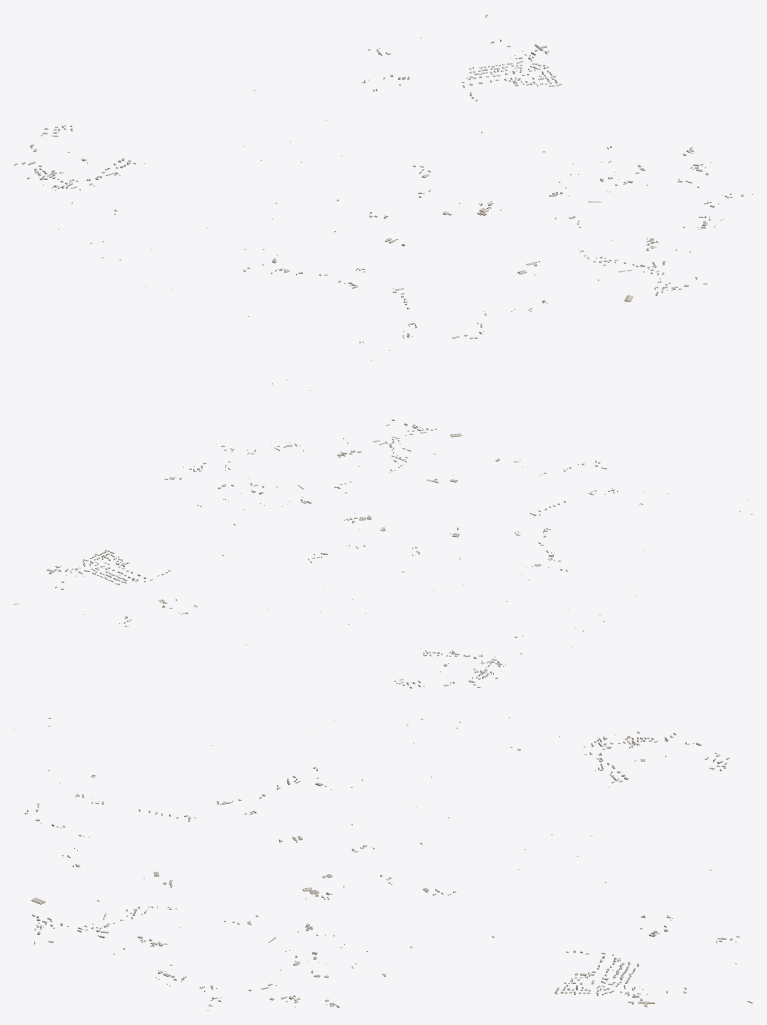
3 views of the same model, one above another, from view 1: azimuth 30°, elevation 25°; view 2: azimuth 150°, elevation 25°; view 3: azimuth 270°, elevation 25° (orthographic). The views are drawn at different scales.
Bounding box in the file's own units: 3439 × 46.79 × 3650.
